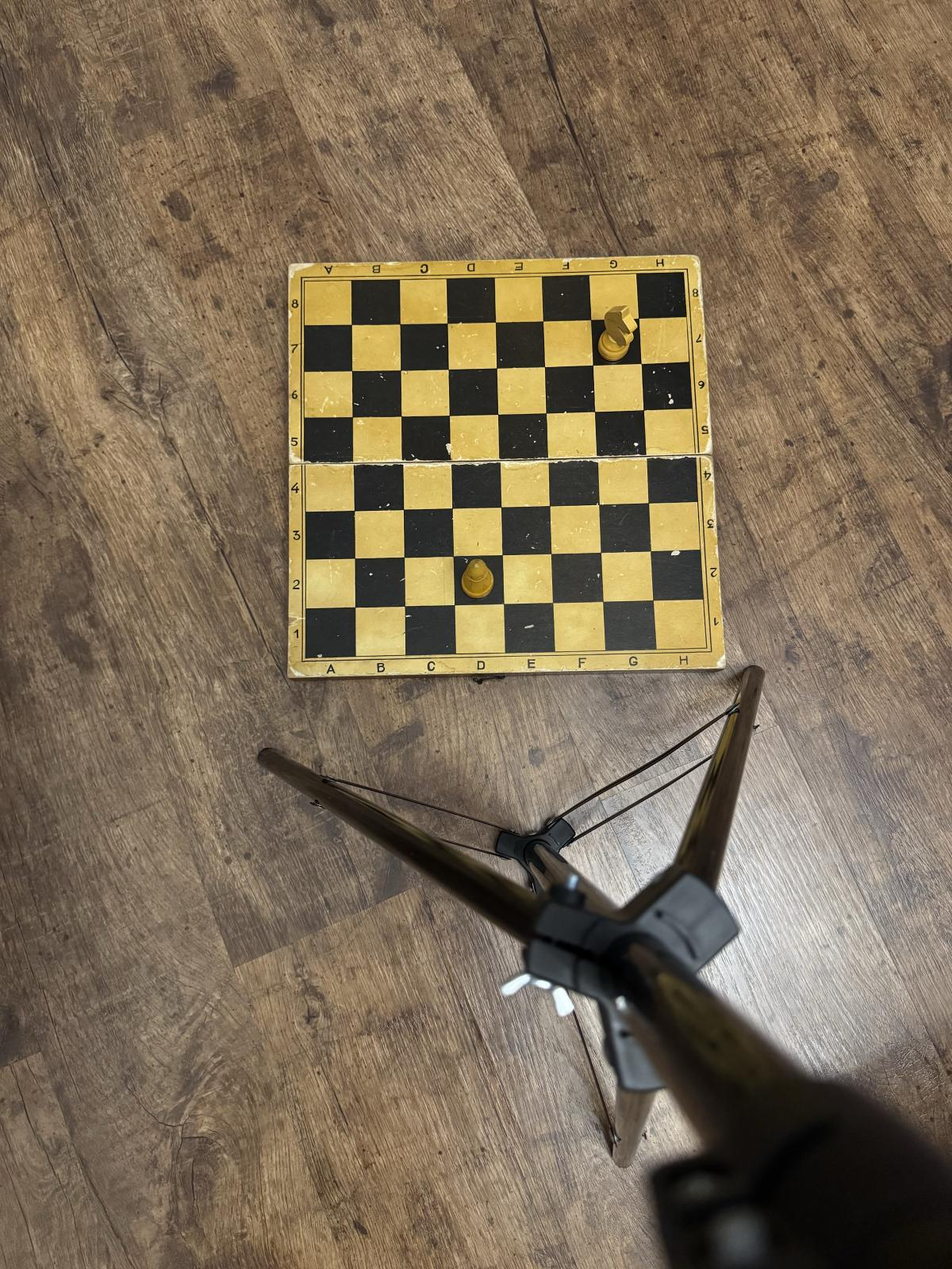Chess-Board: (304, 272, 707, 658)
